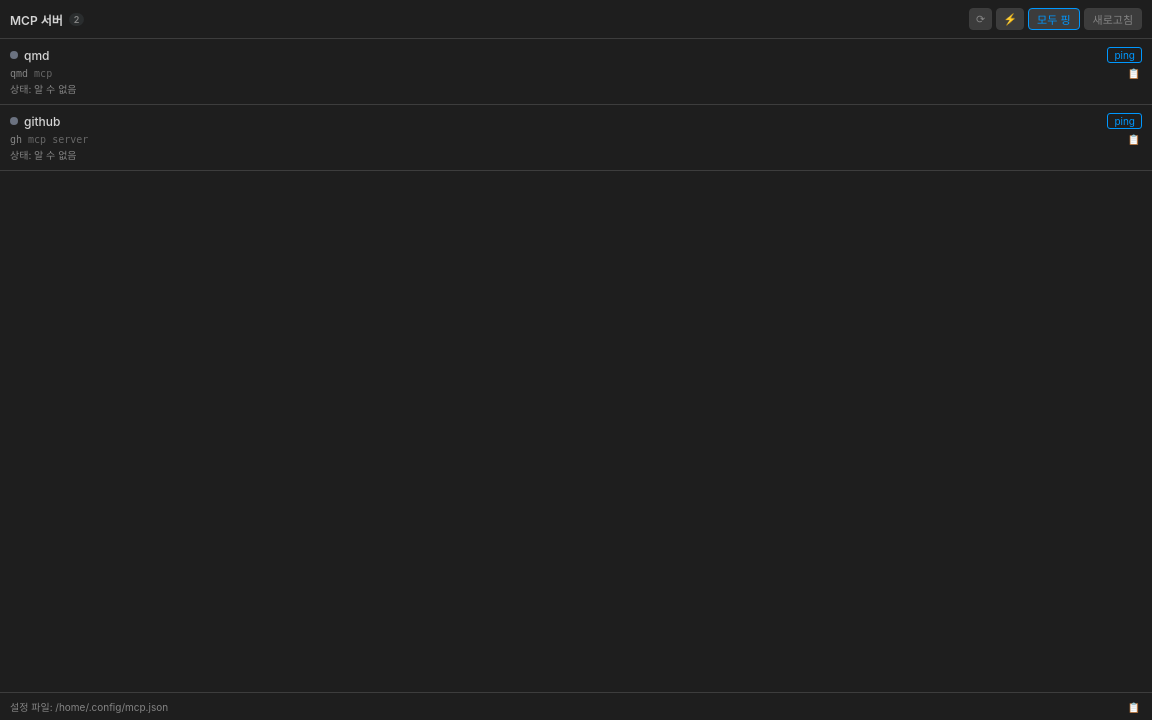
Test: ConnectionPanel › ping 성공 시 활성 상태와 레이턴시가 표시된다
Expected: the text "qmd" is shown, [24, 48, 50, 62]
Click the 1st button "ping" at (1125, 55), box [1107, 47, 1142, 63]
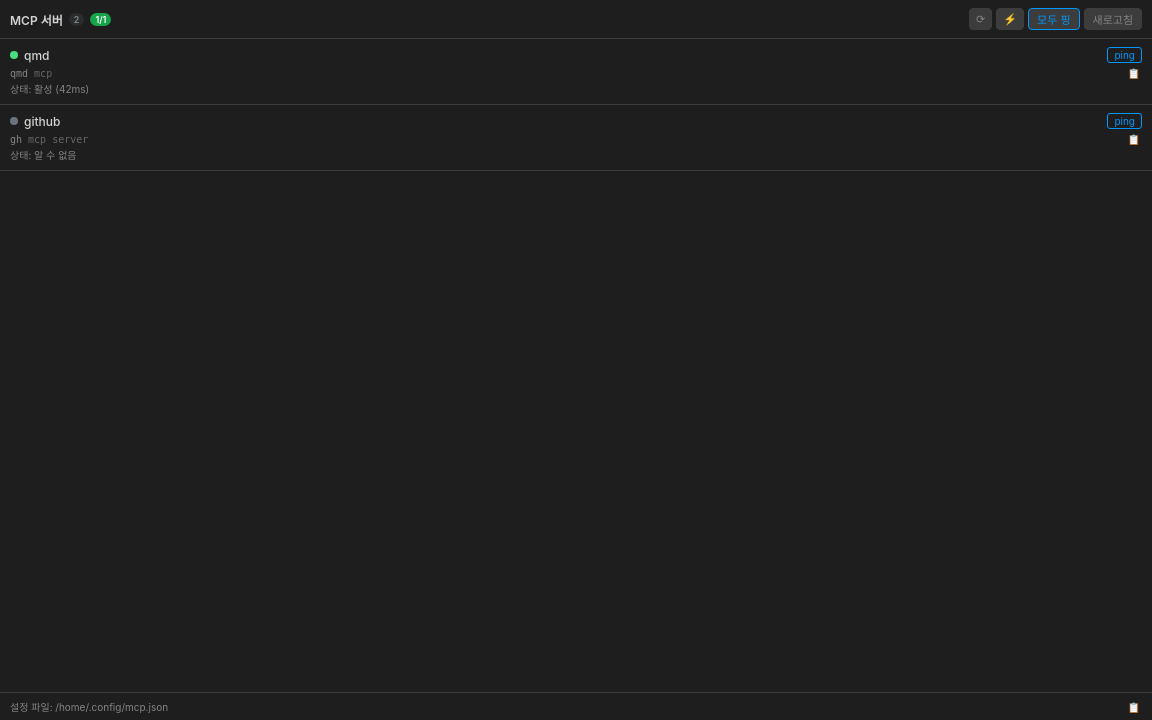
Now the text "상태: 활성 (42ms)" is shown, box [10, 83, 89, 95]
